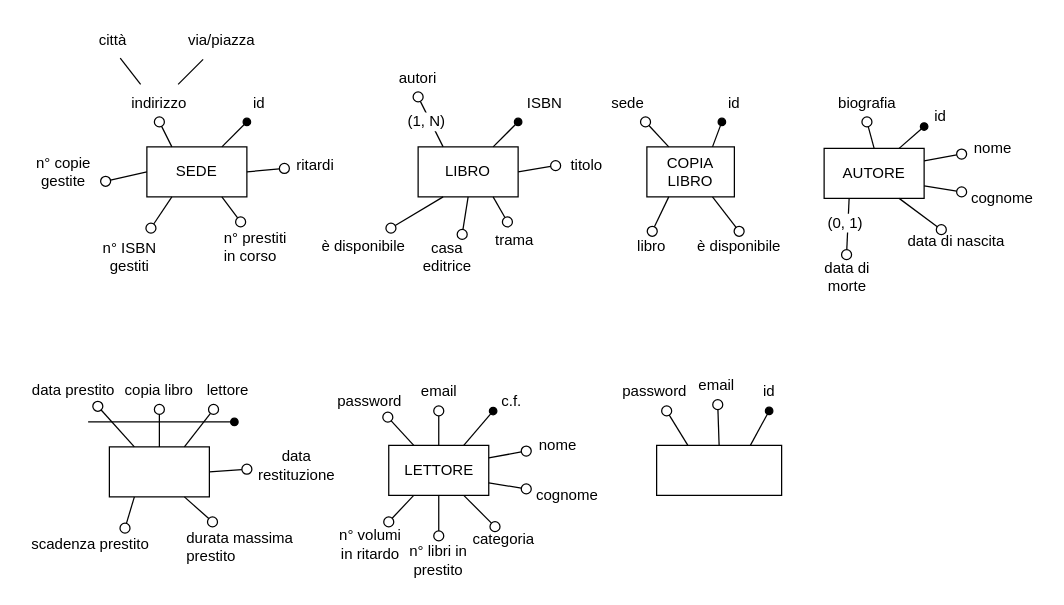
This 1064x605 diagram has some shape labels left out. Here are the shapes that lost their labels. From the top down, the centre of each, then its label:
[158,471]: PRESTITO
[718,469]: BIBLIOTECARIO
